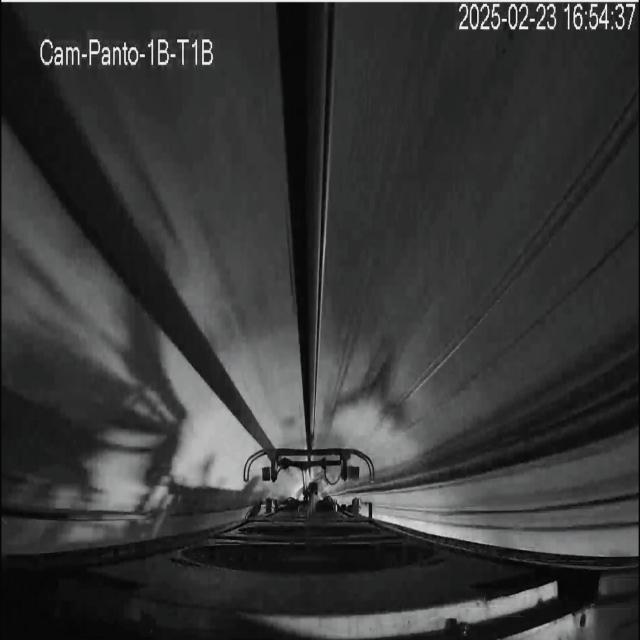Camera Stamp: (35, 27, 217, 70)
Date Stamp: (458, 3, 636, 33)
No - Spark: (246, 446, 376, 518)
